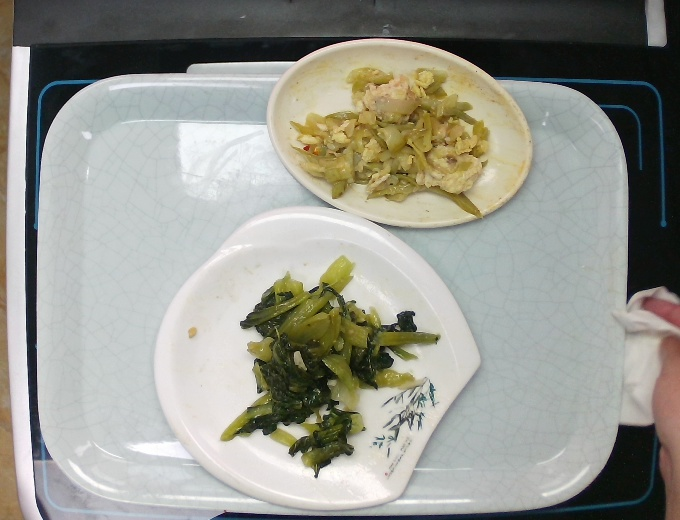JYsf-Mian_Pan: (152, 204, 483, 513)
JYsf-Tuo_Yuan_Wan: (264, 36, 535, 231)
